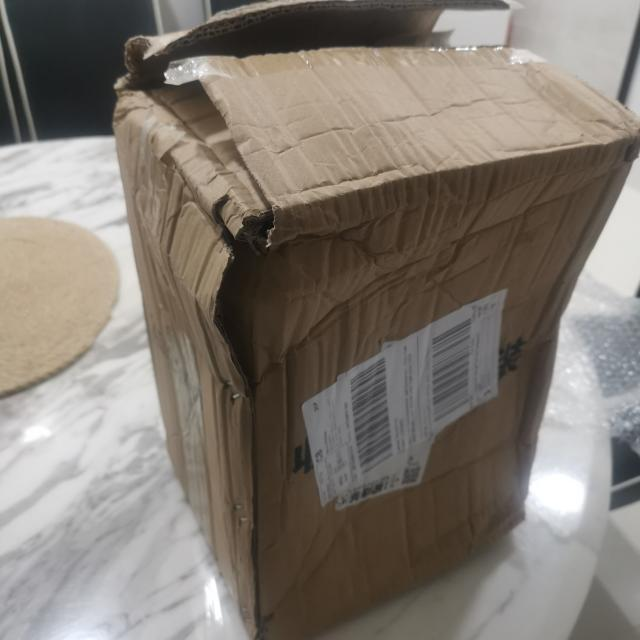box: (110, 0, 640, 640)
crushed: (111, 2, 640, 640)
opened: (202, 206, 278, 391)
